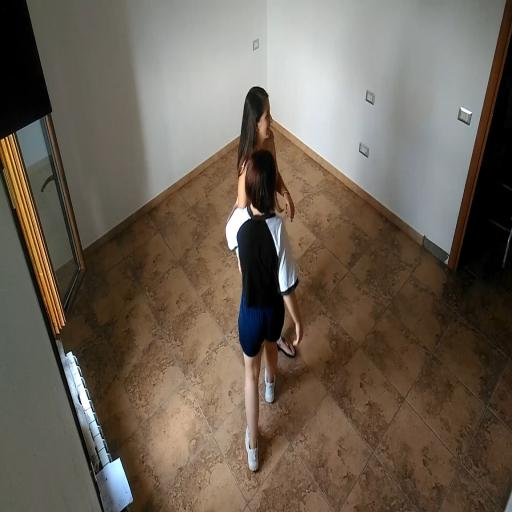nao-violencia: (214, 81, 310, 479)
